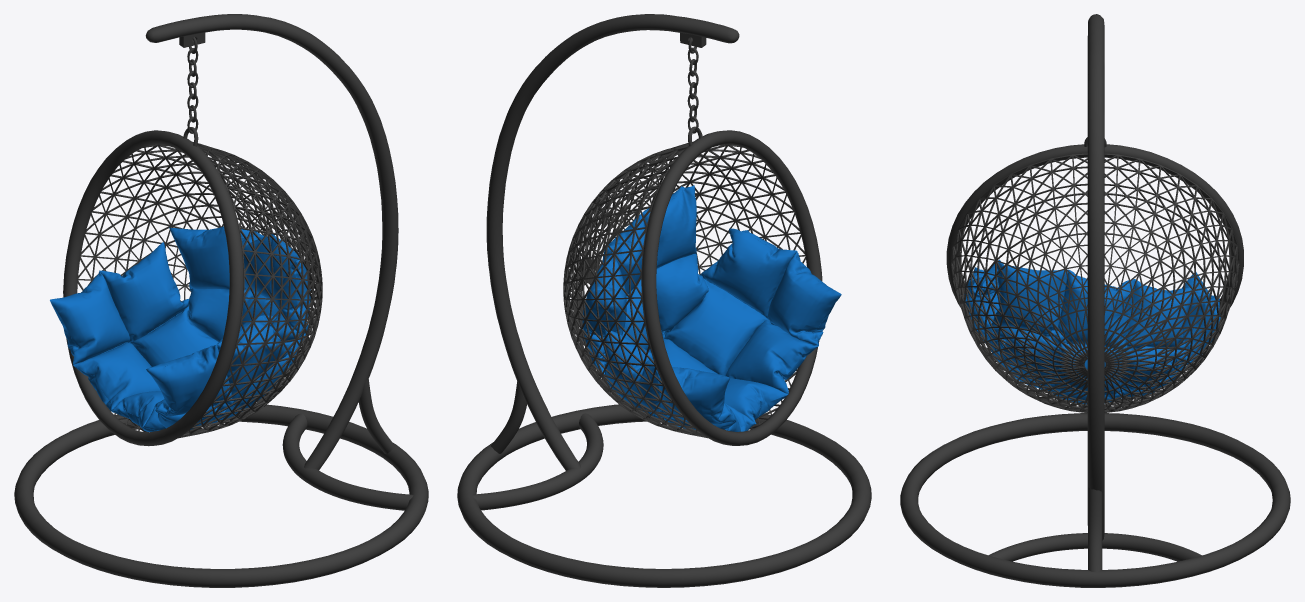
The model's file is sceneDraco-transformed.glb.
3 renders of one model, left to right at view 1: azimuth 30°, elevation 25°; view 2: azimuth 150°, elevation 25°; view 3: azimuth 270°, elevation 25°, orthographic. The views are drawn at different scales.
Parts seen in each view (by area): view 1: cushion, basket, part6, part2, part5, part8, part1, part7; view 2: cushion, basket, part6, part2, part5, part8, part1, part7; view 3: basket, part6, cushion, part2, part5, part8, part1.
Boxes of the visible parts, x1=… form: cushion: x1=50, y1=226, x2=310, y2=432; basket: x1=77, y1=141, x2=322, y2=438; part6: x1=14, y1=404, x2=428, y2=587; part2: x1=145, y1=14, x2=398, y2=470; part5: x1=63, y1=130, x2=243, y2=446; part8: x1=282, y1=413, x2=413, y2=510; part1: x1=358, y1=379, x2=395, y2=454; part7: x1=183, y1=37, x2=198, y2=146; cushion: x1=582, y1=185, x2=841, y2=431; basket: x1=563, y1=141, x2=805, y2=438; part6: x1=457, y1=404, x2=871, y2=587; part2: x1=486, y1=14, x2=739, y2=470; part5: x1=642, y1=130, x2=822, y2=445; part8: x1=472, y1=413, x2=603, y2=510; part1: x1=491, y1=381, x2=526, y2=453; part7: x1=687, y1=37, x2=702, y2=146; basket: x1=951, y1=153, x2=1239, y2=413; part6: x1=900, y1=413, x2=1290, y2=587; cushion: x1=964, y1=259, x2=1220, y2=404; part2: x1=1087, y1=14, x2=1104, y2=540; part5: x1=946, y1=144, x2=1243, y2=314; part8: x1=988, y1=533, x2=1201, y2=561; part1: x1=1088, y1=487, x2=1102, y2=572.
Bounding box in the file's own units: 2.09 × 2.74 × 2.09.
